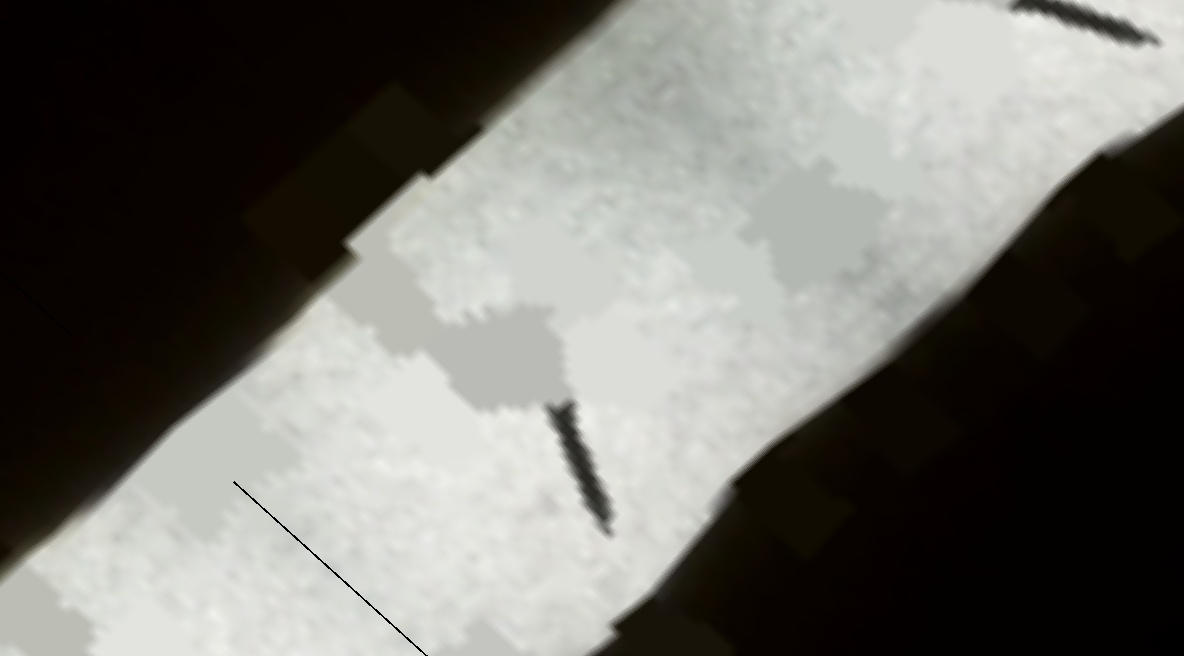S001: (401, 251, 726, 564)
